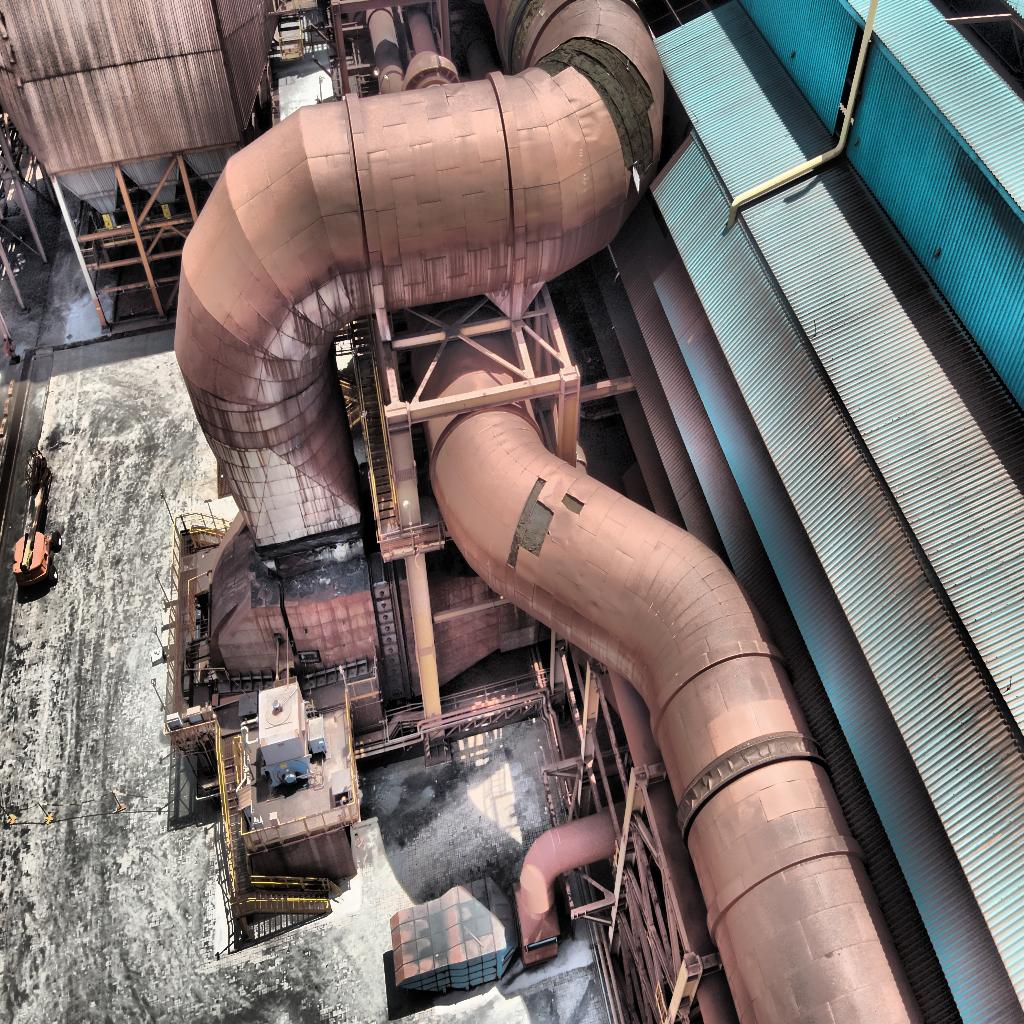Failures: (526, 43, 666, 196), (499, 464, 589, 579), (502, 1, 550, 36), (499, 12, 524, 74)
